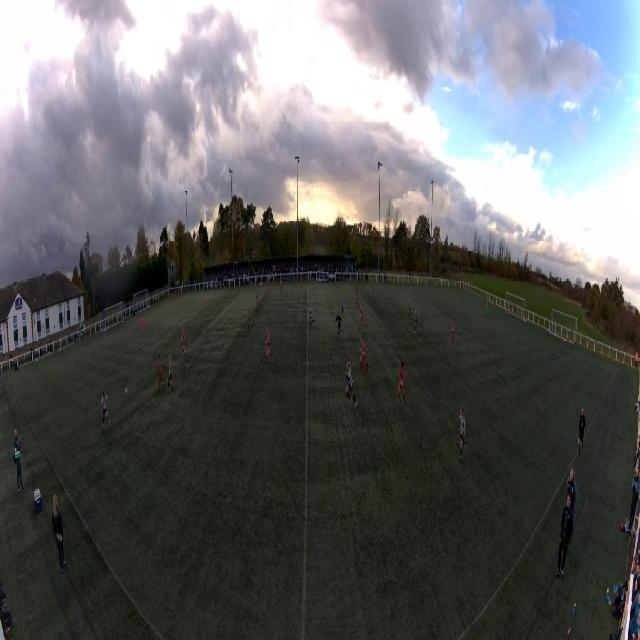ball: (125, 388, 127, 395)
player: (345, 358, 356, 405), (458, 408, 467, 456), (100, 389, 110, 430), (359, 335, 369, 376), (398, 360, 406, 402), (265, 326, 273, 362), (358, 303, 367, 331), (167, 355, 173, 397), (335, 311, 343, 341), (247, 305, 255, 333), (158, 357, 164, 393), (181, 327, 187, 361), (307, 303, 313, 329), (414, 307, 418, 335), (407, 296, 412, 318), (451, 317, 455, 344), (340, 294, 345, 315), (256, 292, 261, 311), (279, 279, 284, 294), (142, 316, 146, 333), (486, 301, 489, 319), (355, 287, 358, 304), (372, 280, 374, 295)
